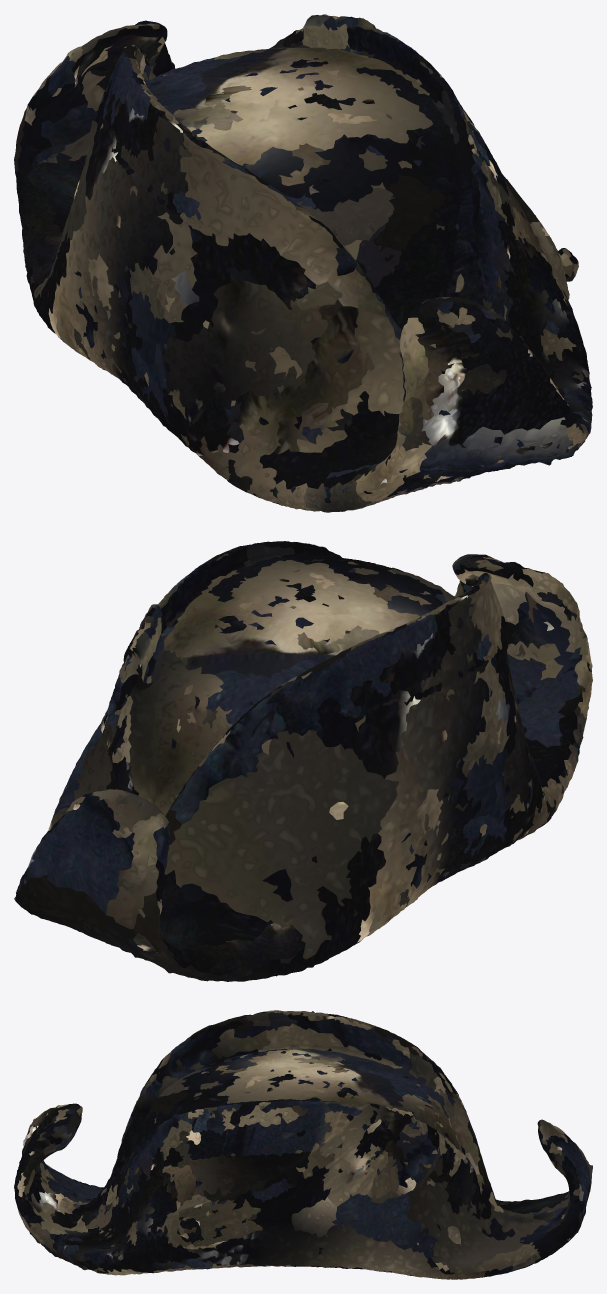
The model's file is bicornHat.gltf.
The picture shows the model from 3 angles, top to bottom: view 1: azimuth 30°, elevation 25°; view 2: azimuth 150°, elevation 25°; view 3: azimuth 270°, elevation 25°; orthographic projection. The views are drawn at different scales.
Visible parts, largest first — view 1: bicornHat; view 2: bicornHat; view 3: bicornHat.
Boxes of the visible parts, x1,y1,x2,y2 form: bicornHat: (14, 14, 592, 512); bicornHat: (14, 541, 592, 981); bicornHat: (14, 1010, 592, 1279).
Bounding box in the file's own units: 1.16 × 0.925 × 2.43.
